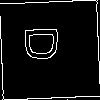D: (25, 25, 66, 63)
